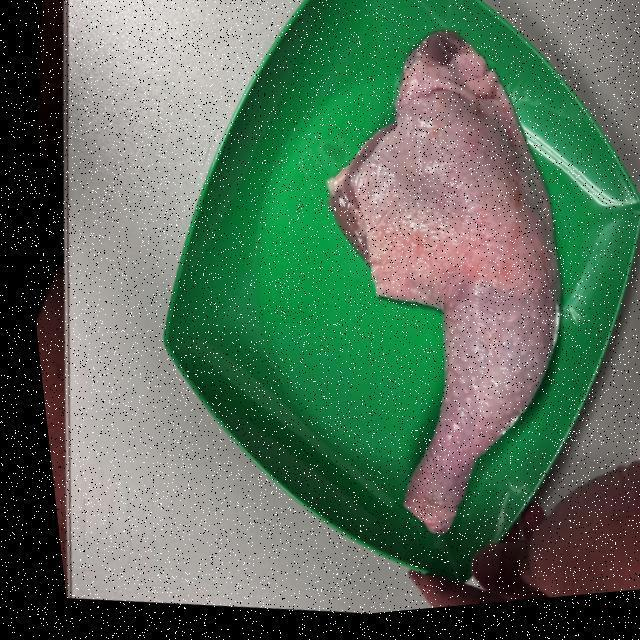quater: (362, 28, 558, 534)
